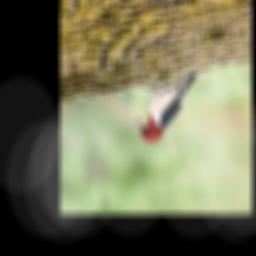Woodpecker: (125, 73, 210, 146)
